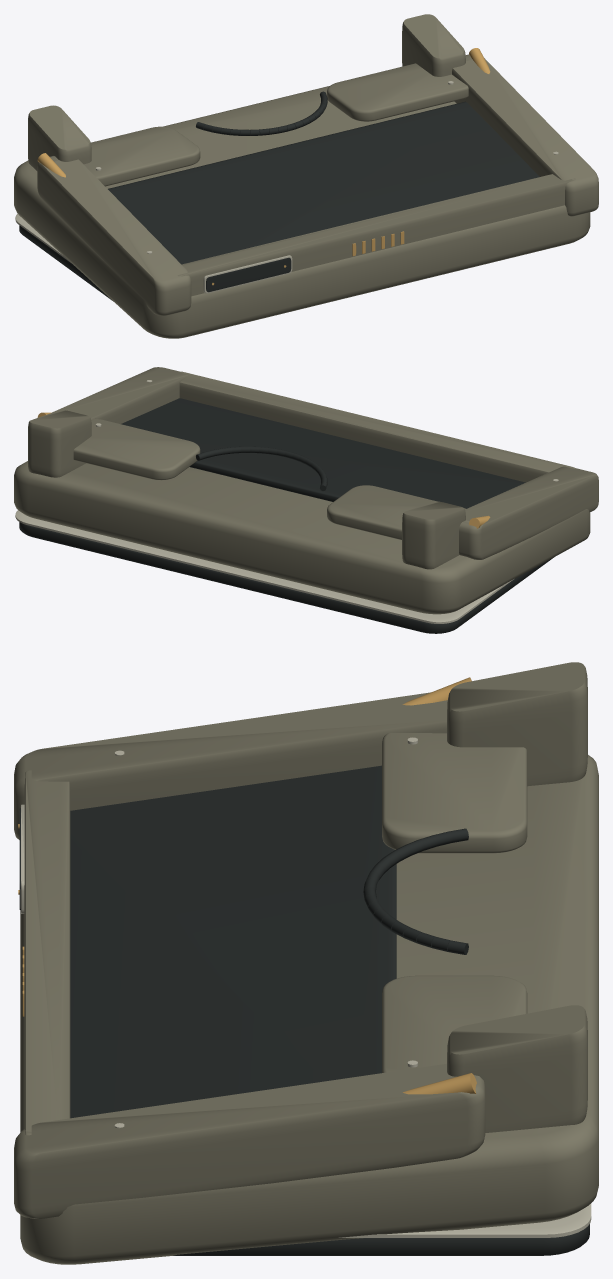
The model's file is Executive.glb.
3 renders of one model, top to bottom at view 1: azimuth 30°, elevation 25°; view 2: azimuth 150°, elevation 25°; view 3: azimuth 270°, elevation 25°, orthographic. The views are drawn at different scales.
Visible parts, largest first — view 1: Keyboard well, Cast chassis, Enamel cheek (×2), Front fascia, Spool platform (×2), Carriage bearing (×2), Maker plate, Rolled lower pan, Badge surround; view 2: Cast chassis, Keyboard well, Enamel cheek (×2), Front fascia, Spool platform (×2), Carriage bearing (×2), Rolled lower pan, Chassis parting seam; view 3: Keyboard well, Cast chassis, Enamel cheek (×2), Carriage bearing (×2), Spool platform (×2), Front fascia, Rolled lower pan, Chassis parting seam, External frame stay.
Boxes of the visible parts, box(x1,y1,x2,y2) form: Keyboard well: box(108, 101, 539, 264); Cast chassis: box(14, 86, 590, 338); Enamel cheek (×2): box(37, 54, 598, 315); Front fascia: box(177, 174, 575, 296); Spool platform (×2): box(84, 63, 468, 186); Carriage bearing (×2): box(28, 14, 465, 170); Maker plate: box(206, 257, 291, 292); Rolled lower pan: box(19, 225, 113, 301); Badge surround: box(203, 255, 292, 293); Cast chassis: box(14, 461, 590, 614); Keyboard well: box(121, 398, 525, 508); Enamel cheek (×2): box(52, 367, 598, 559); Front fascia: box(178, 371, 575, 482); Spool platform (×2): box(73, 418, 465, 539); Carriage bearing (×2): box(28, 410, 465, 569); Rolled lower pan: box(19, 522, 553, 633); Chassis parting seam: box(15, 510, 513, 623); Keyboard well: box(70, 765, 396, 1118); Cast chassis: box(20, 755, 598, 1264); Enamel cheek (×2): box(14, 692, 485, 1218); Carriage bearing (×2): box(447, 662, 587, 1132); Spool platform (×2): box(382, 733, 527, 1072); Front fascia: box(24, 770, 70, 1135); Rolled lower pan: box(173, 1224, 589, 1255); Chassis parting seam: box(339, 1203, 591, 1237); External frame stay: box(403, 1073, 476, 1094).
Size of the model in its own units: 6.9 by 1.81 by 4.2.
